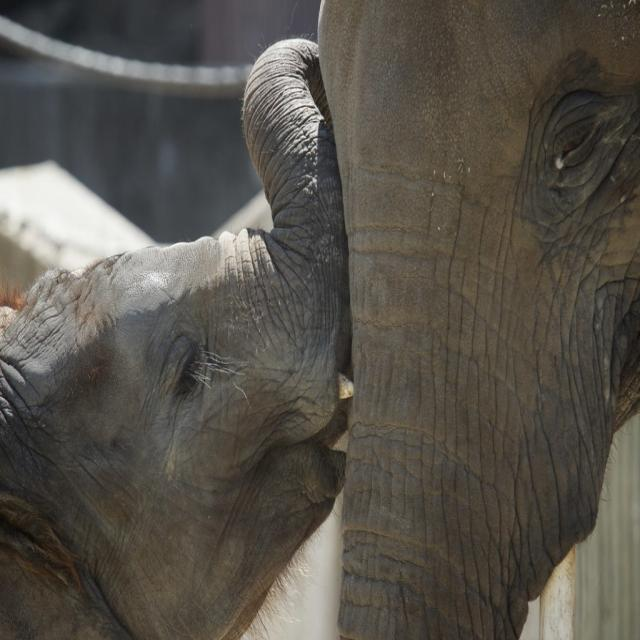Elephant: (0, 28, 354, 640), (318, 0, 640, 640)
